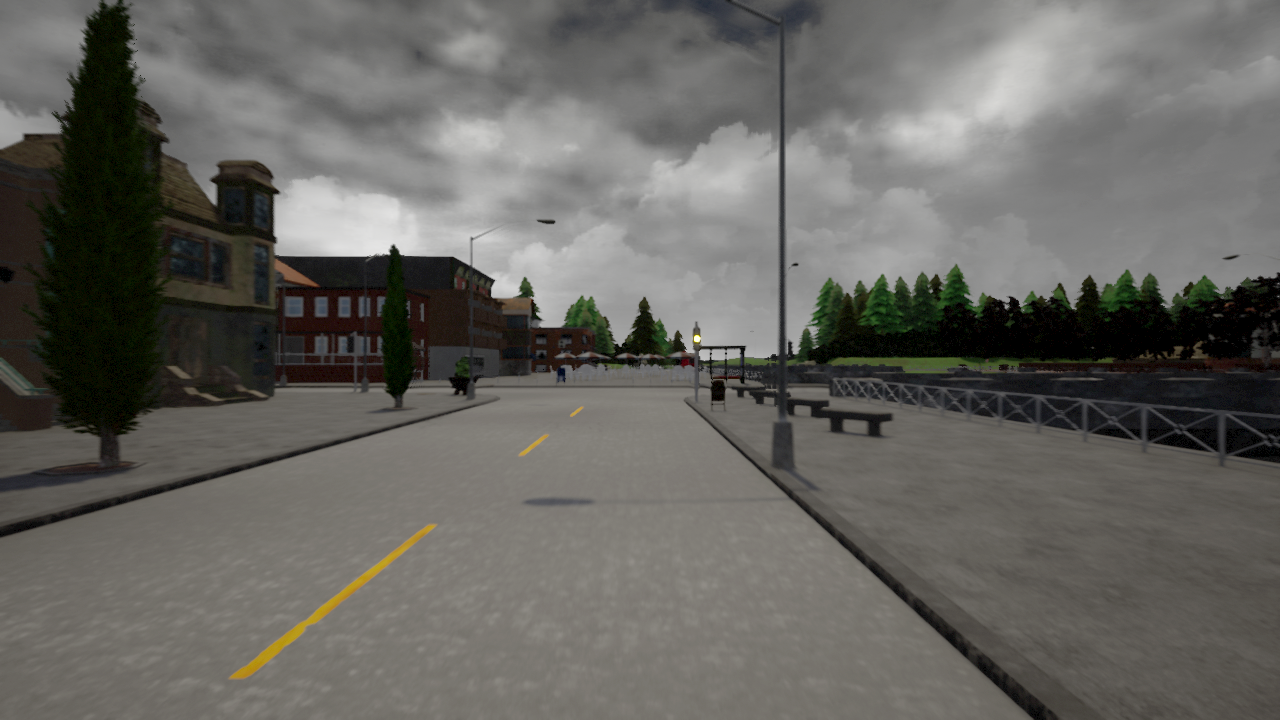yellow: (690, 328, 702, 351)
